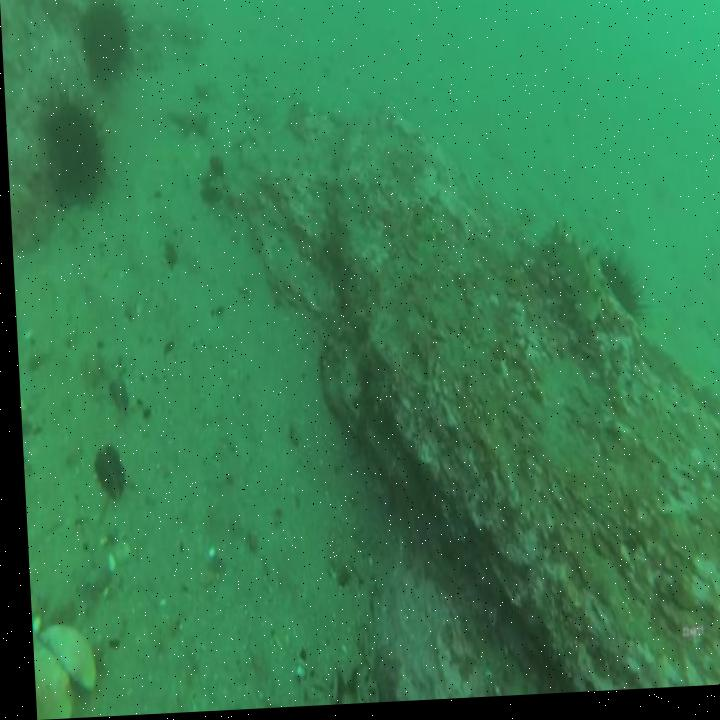echinus: (36, 88, 113, 215), (74, 0, 137, 88), (597, 253, 648, 342)
holothurian: (531, 220, 607, 345)
